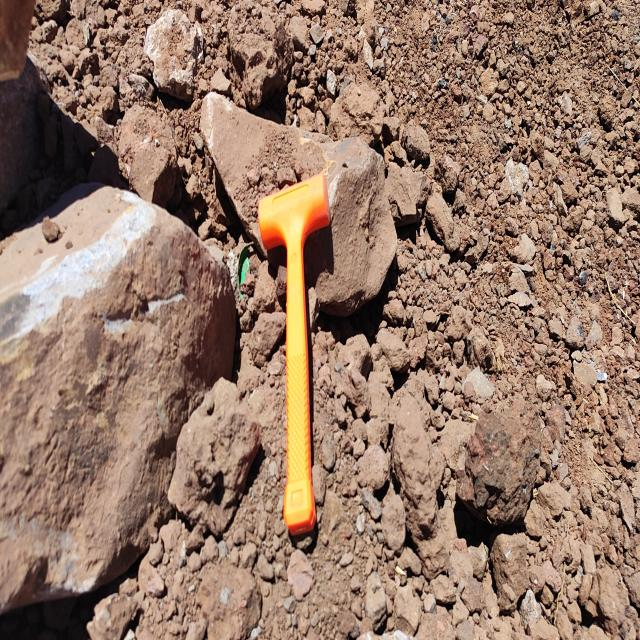Orange_hammer: (257, 170, 331, 537)
